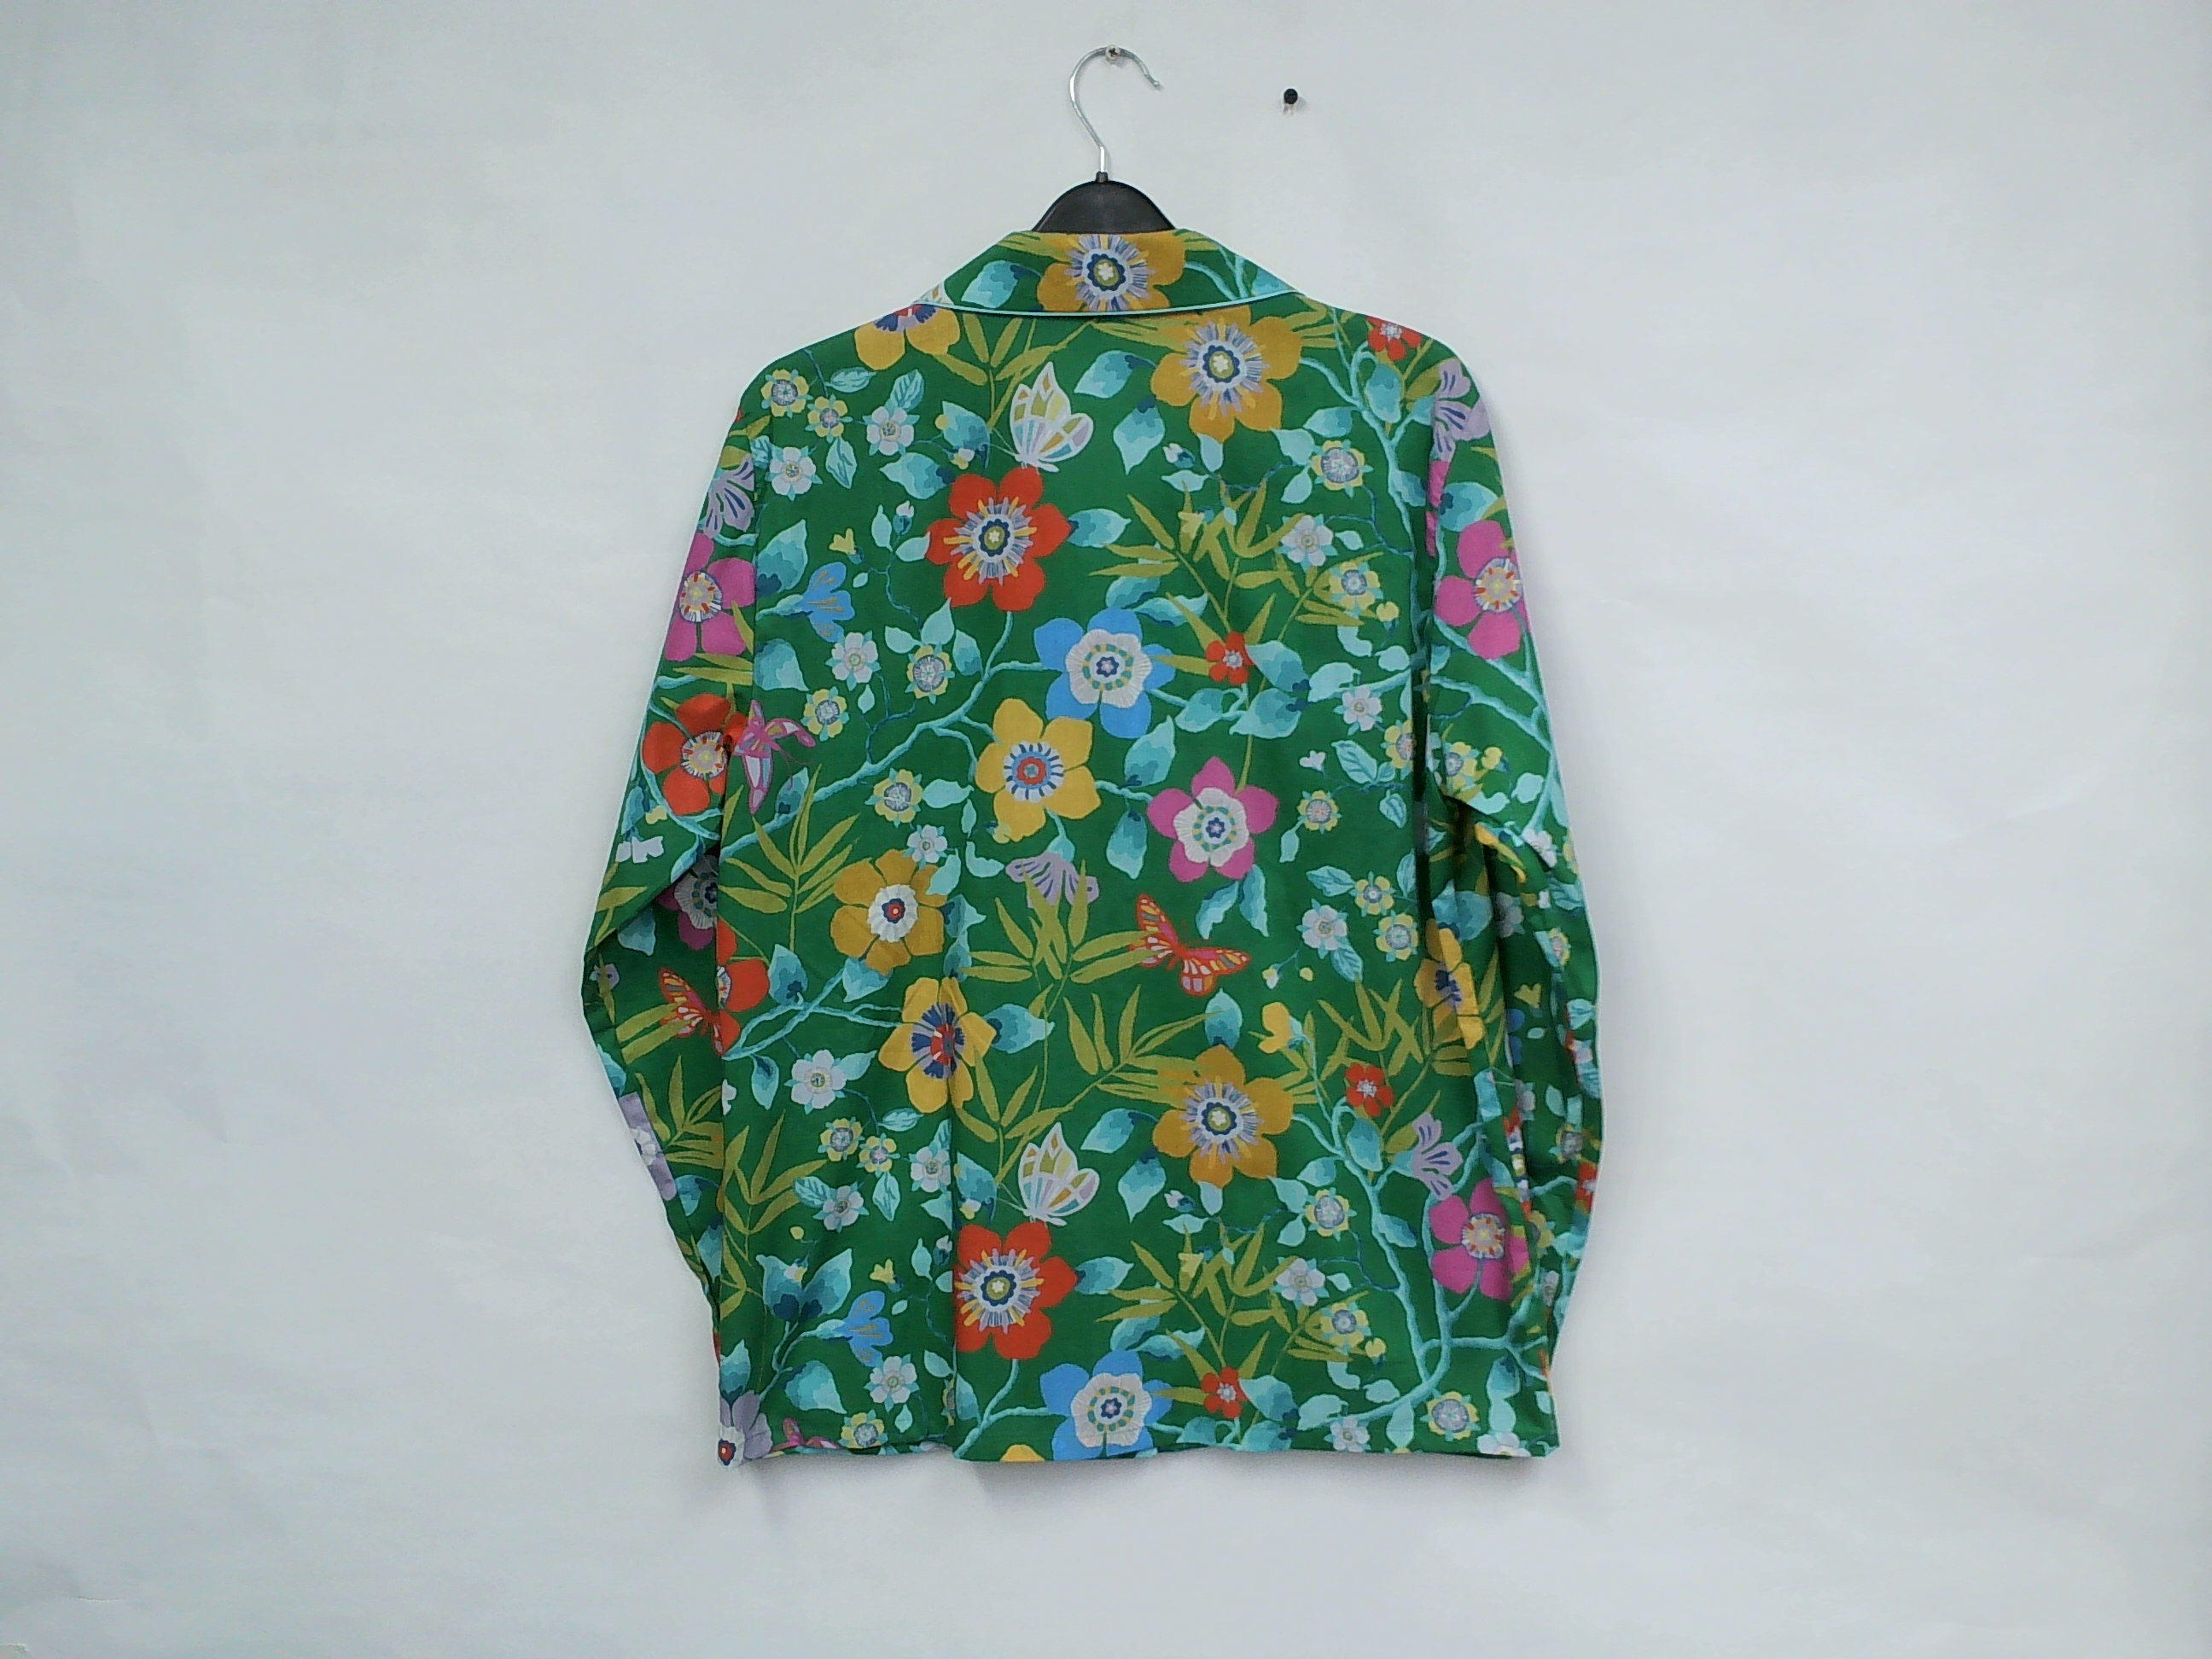wrinkles: (658, 816, 742, 899)
